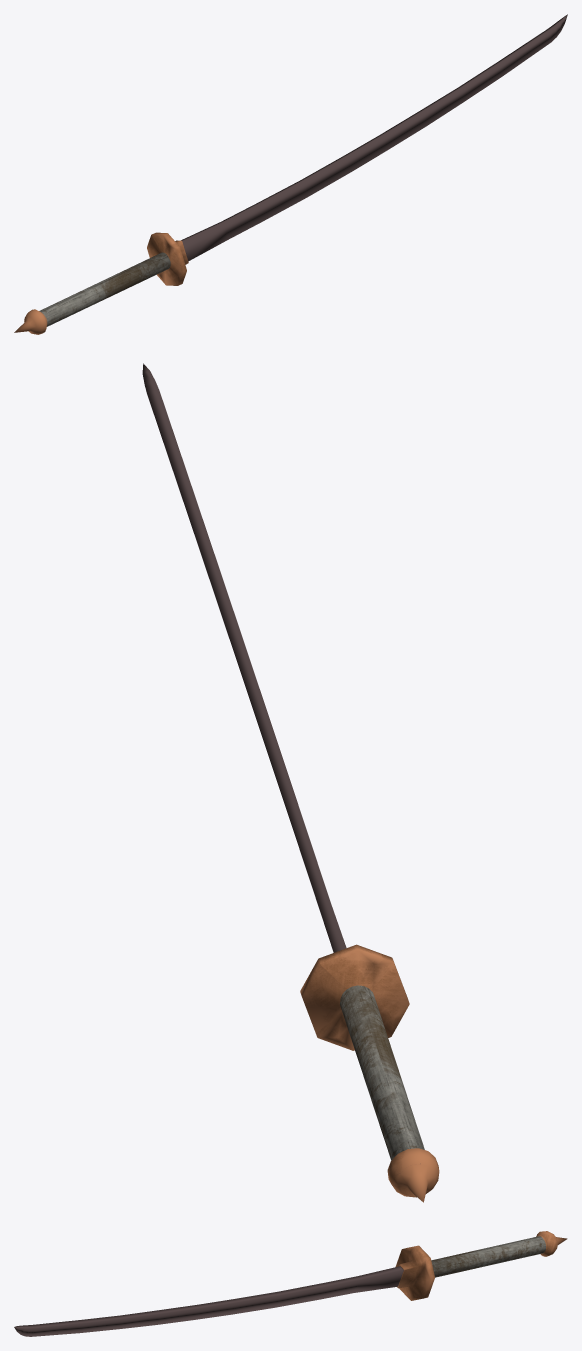
The model's file is Anim_idle_katana_objetos.0046.obj.
3 renders of one model, top to bottom at view 1: azimuth 90°, elevation 25°; view 2: azimuth 150°, elevation 25°; view 3: azimuth 270°, elevation 25°, orthographic. The views are drawn at different scales.
Visible parts, largest first — view 1: Katana1; view 2: Katana1; view 3: Katana1.
Part boxes in pixels (bbox=[...]): Katana1: bbox=[14, 14, 567, 334]; Katana1: bbox=[142, 363, 439, 1202]; Katana1: bbox=[14, 1231, 567, 1336].
Bounding box in the file's own units: 3.46 × 0.9834 × 3.98.
